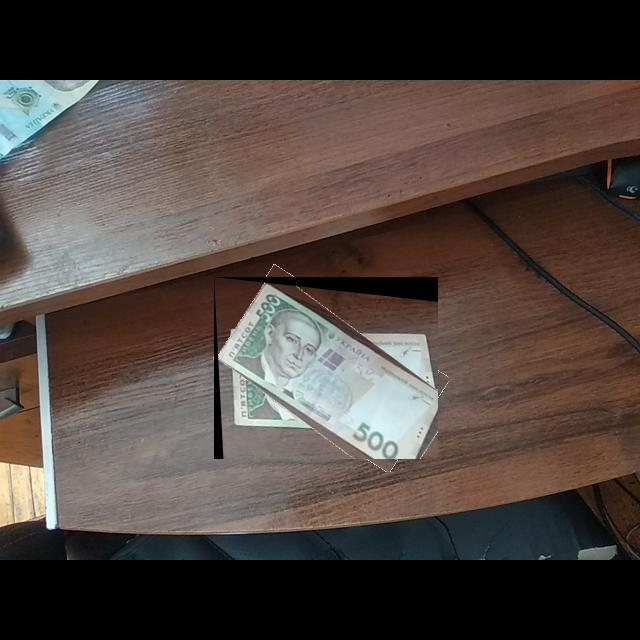500uah: (217, 282, 439, 460)
